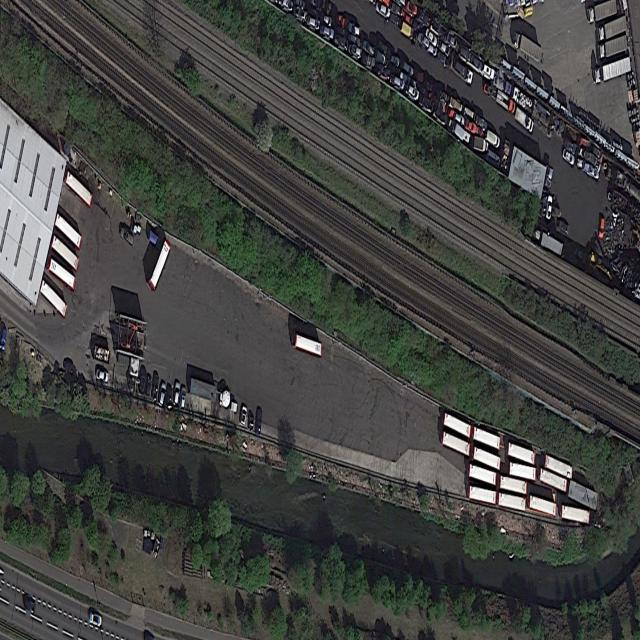large-vehicle: (592, 54, 632, 86), (39, 278, 68, 319), (50, 234, 80, 273), (149, 238, 171, 290), (64, 170, 93, 209), (54, 211, 82, 251), (512, 30, 544, 65), (48, 254, 76, 291), (597, 13, 628, 44), (458, 41, 485, 76), (443, 410, 472, 440), (597, 33, 628, 61), (449, 54, 474, 87), (441, 430, 471, 457), (544, 453, 573, 480), (512, 85, 535, 118), (539, 468, 568, 494), (585, 1, 618, 23), (472, 446, 501, 471), (507, 441, 536, 466), (472, 426, 501, 450), (295, 333, 323, 357), (468, 463, 497, 486), (529, 494, 557, 517), (514, 105, 535, 135), (468, 485, 497, 506), (500, 475, 528, 496), (561, 504, 590, 524), (509, 461, 537, 481), (498, 492, 526, 512), (496, 88, 516, 116), (399, 18, 418, 45), (447, 117, 466, 143), (486, 128, 502, 150), (483, 80, 498, 102), (473, 136, 489, 154)
small-vehicle: (418, 93, 435, 116), (433, 105, 449, 129), (119, 225, 134, 248), (375, 0, 391, 20), (348, 41, 363, 61), (405, 83, 420, 103), (436, 49, 451, 69), (425, 27, 439, 48), (293, 5, 308, 24), (335, 32, 349, 52), (562, 147, 576, 166), (254, 408, 263, 437), (151, 373, 160, 402), (24, 595, 37, 615), (88, 611, 103, 628), (138, 367, 147, 395), (391, 74, 405, 92), (417, 32, 430, 51), (348, 21, 361, 39), (362, 39, 375, 57), (158, 381, 167, 407), (475, 114, 488, 132), (463, 106, 476, 124), (402, 60, 414, 79), (446, 31, 458, 50), (389, 1, 403, 17), (322, 24, 335, 41), (587, 164, 600, 181), (482, 63, 495, 80), (453, 111, 466, 128), (545, 167, 554, 191), (307, 15, 320, 31), (348, 32, 361, 48), (405, 1, 418, 17), (438, 40, 450, 57), (464, 118, 476, 134), (173, 381, 181, 405), (399, 70, 411, 86), (401, 9, 412, 26), (239, 405, 247, 428), (145, 374, 153, 397), (96, 368, 109, 382), (546, 194, 553, 220), (389, 52, 400, 68), (598, 218, 606, 240), (180, 387, 187, 410), (427, 44, 438, 58), (247, 413, 255, 432), (323, 13, 332, 28)
storage-tank: (222, 391, 230, 407)
